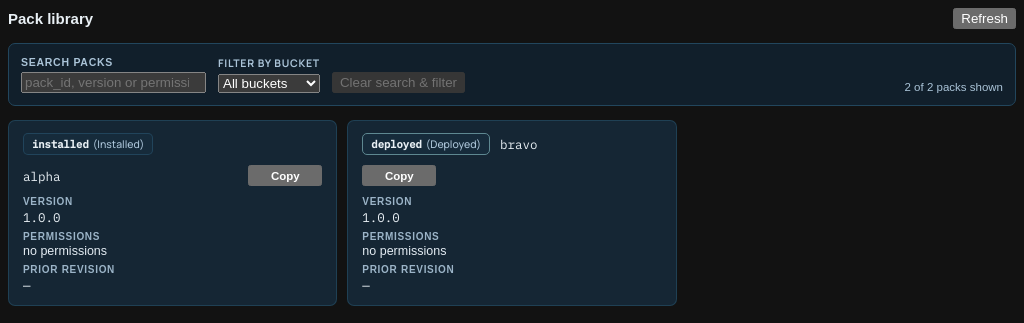
PackLibrary refresh keeps the selected bucket filter truthful › Clear search & filter reveals all refreshed rows without touching the search query's refresh behavior
Expected: the list with test id "pack-library-list" is shown, [8, 120, 677, 306]
Select "installed" in the dropdown with test id "pack-library-bucket-select": {"x": 269, "y": 84} [218, 74, 320, 93]
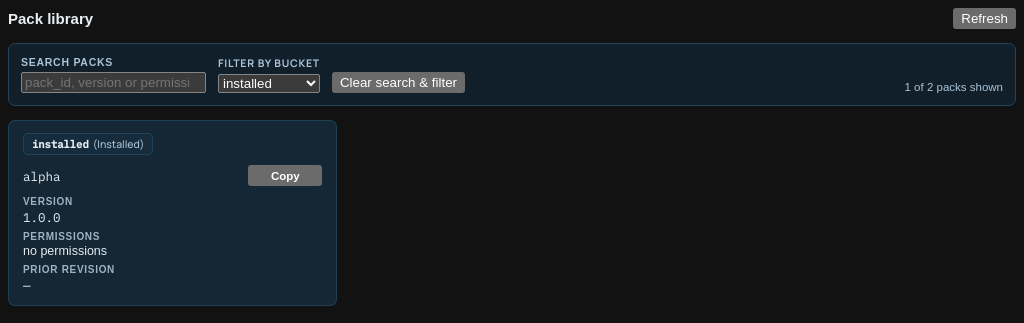
Click the button with test id "pack-library-refresh": {"x": 985, "y": 18} [953, 8, 1016, 29]
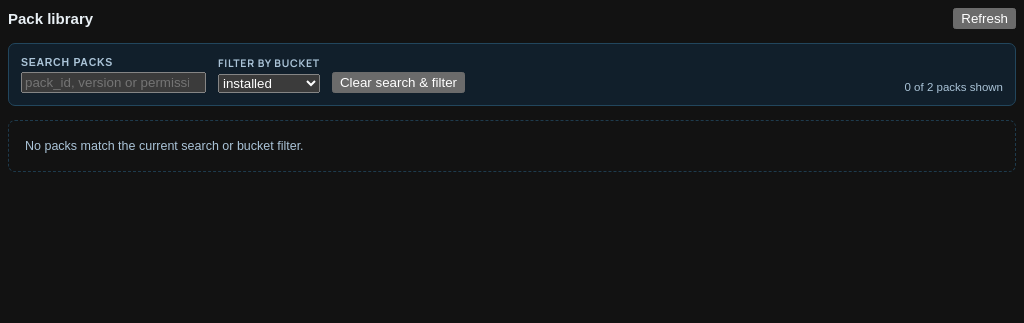
Result: the message "No packs match the current search or bucket filter." is shown at [8, 120, 1016, 172]
Click the button with test id "pack-library-clear-filters": {"x": 398, "y": 82} [332, 72, 465, 93]
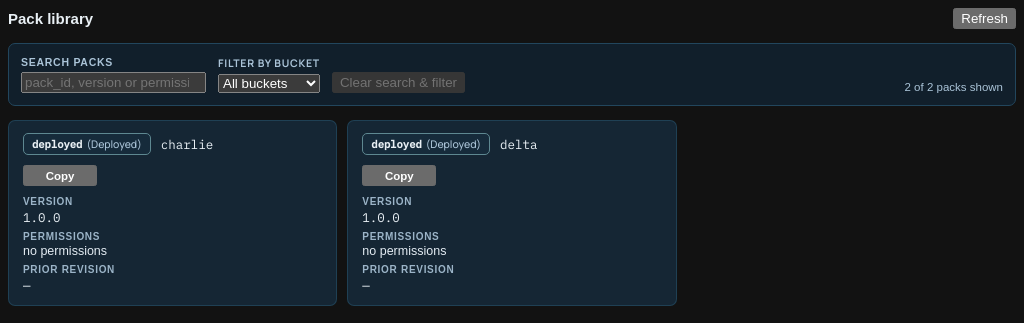
Result: the text with test id "pack-library-count" reads "2 of 2 packs shown" at [904, 81, 1003, 93]
Result: the list item with test id "pack-library-row-charlie" is shown at [8, 120, 337, 306]
Result: the message with test id "pack-library-no-matches" is gone
